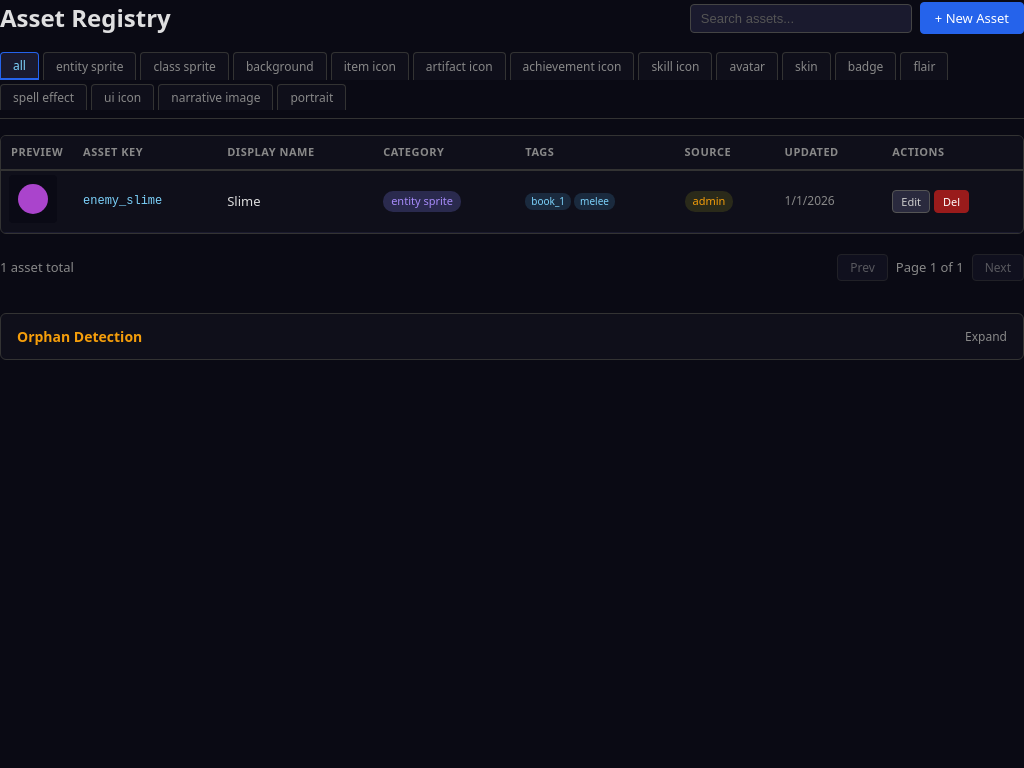
Test: AssetRegistry › edit button opens edit modal with asset data
Expected: the text "enemy_slime" is shown, top-left (73, 170), bottom-right (217, 232)
Click the button "Edit": {"x": 911, "y": 201} top-left (892, 190), bottom-right (930, 213)
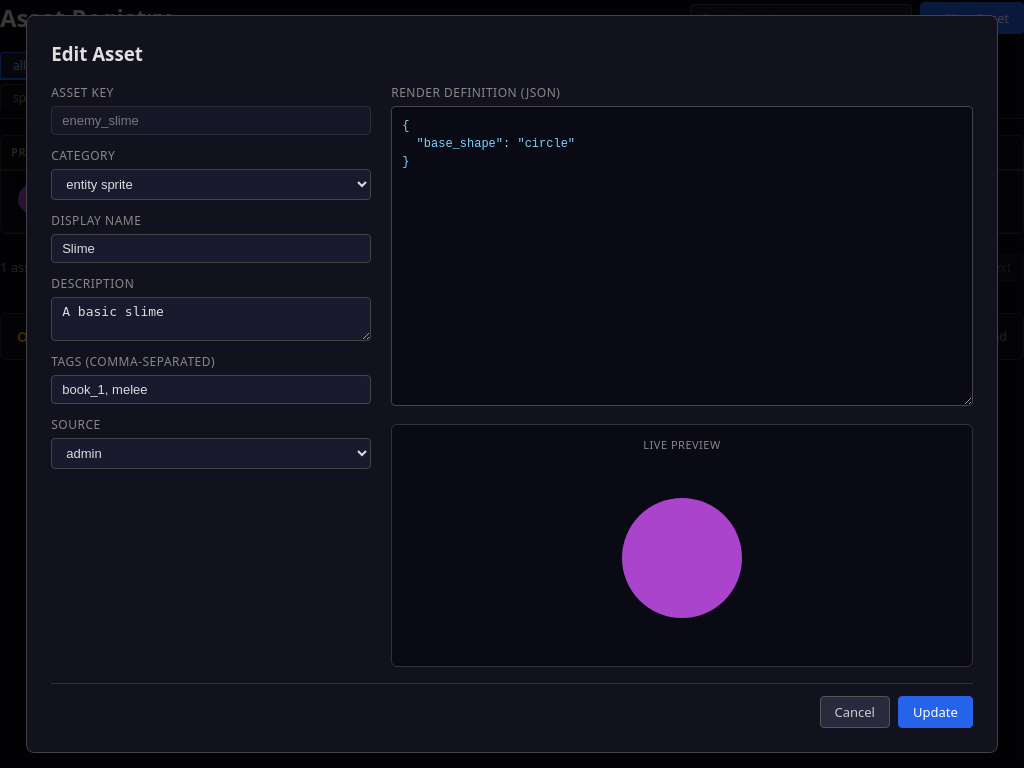
Expected: the heading "Edit Asset" is shown, top-left (51, 41), bottom-right (143, 66)
Expected: the 1st field with placeholder "e.g., enemy_sludge_stalker" is disabled, top-left (51, 106), bottom-right (371, 135)
Expected: the 1st field with placeholder "e.g., enemy_sludge_stalker" holds "enemy_slime", top-left (51, 106), bottom-right (371, 135)
